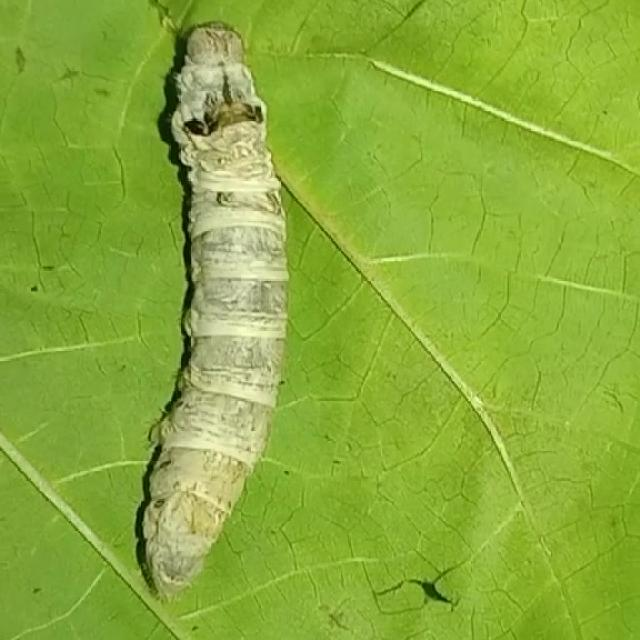Grasserie: (115, 15, 299, 601)
